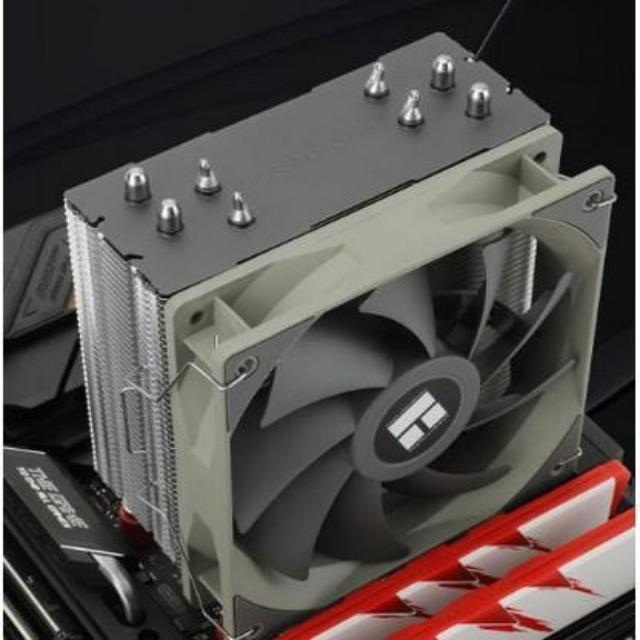CPU_Fan: (62, 30, 590, 605)
